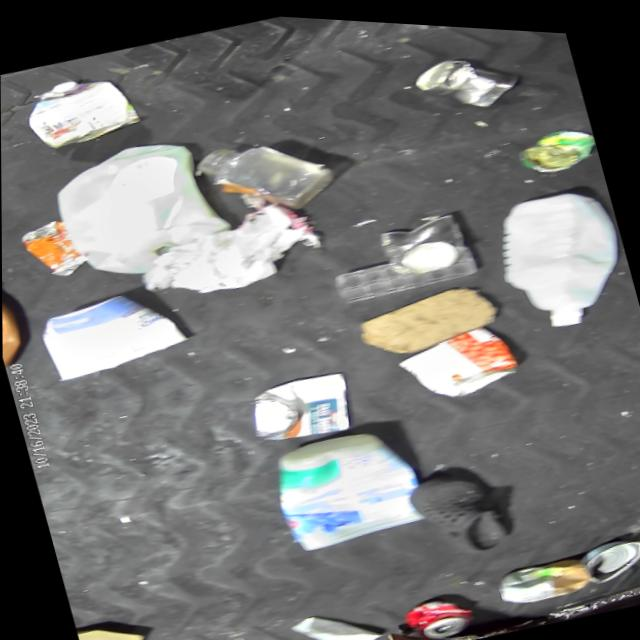can: (388, 307, 524, 410), (17, 61, 144, 158), (238, 359, 358, 452), (407, 34, 525, 121), (374, 205, 465, 280), (489, 542, 589, 607), (508, 110, 600, 176), (14, 211, 90, 286), (396, 582, 478, 640), (575, 522, 640, 582)
milk_jug: (42, 119, 238, 295), (481, 170, 638, 336)
non_white_jug: (2, 273, 31, 369)
